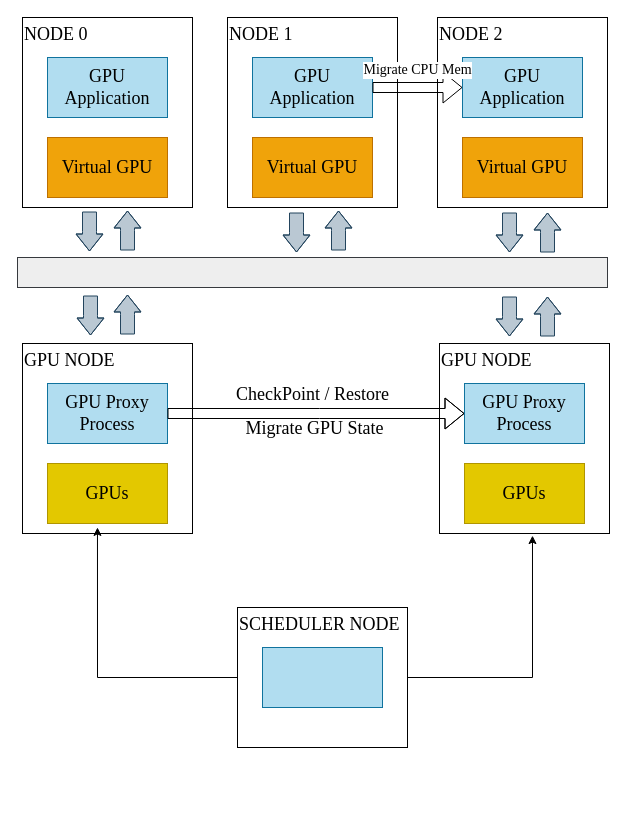
Image size: 627x815. Some labels were removed from this diagram. The centre of each missing label's shape, as x and y in pixels:
Network / Share Memory: pixel 312 272
Scheduler Process: pixel 322 677
